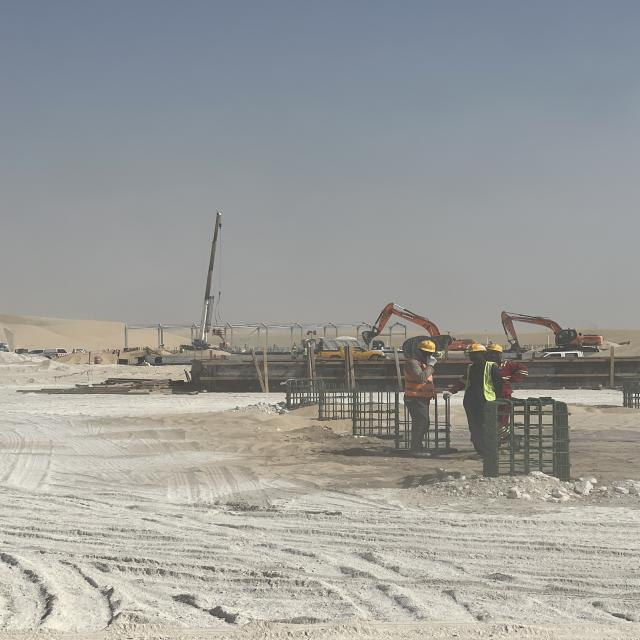Excavator: (362, 298, 476, 355), (494, 307, 602, 360)
Mobile Crane: (186, 204, 231, 356)
